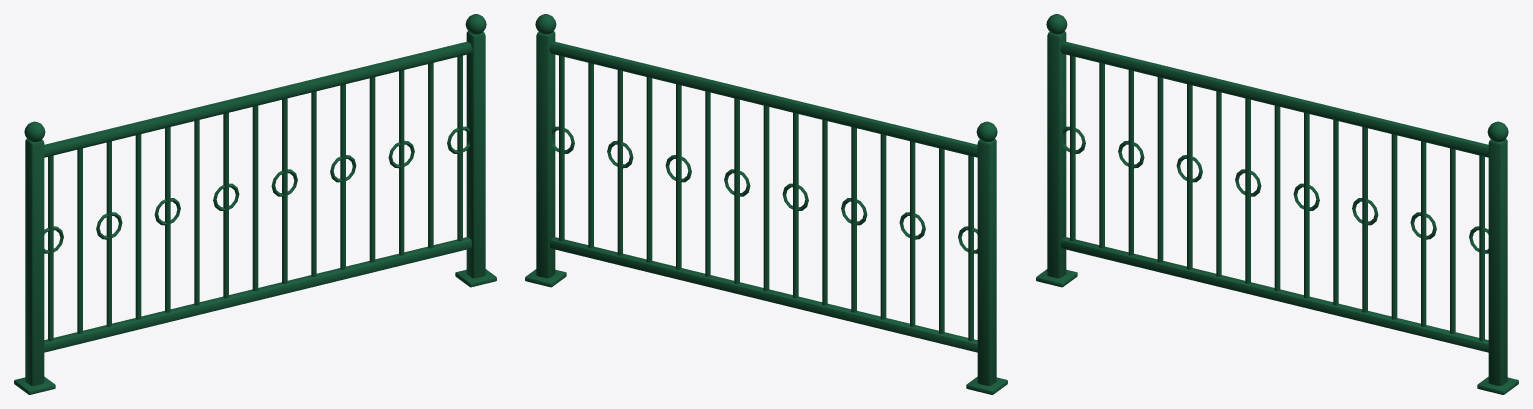
The model's file is gradil_calcada.glb.
3 renders of one model, left to right at view 1: azimuth 30°, elevation 25°; view 2: azimuth 150°, elevation 25°; view 3: azimuth 330°, elevation 25°, orthographic.
Parts seen in each view (by area): view 1: gradil_calcada; view 2: gradil_calcada; view 3: gradil_calcada.
Boxes of the visible parts, x1=… form: gradil_calcada: x1=14, y1=14, x2=496, y2=394; gradil_calcada: x1=525, y1=14, x2=1007, y2=394; gradil_calcada: x1=1036, y1=14, x2=1518, y2=394.
Bounding box in the file's own units: 2.06 × 1.11 × 0.12.
1 material, 1 textured.
